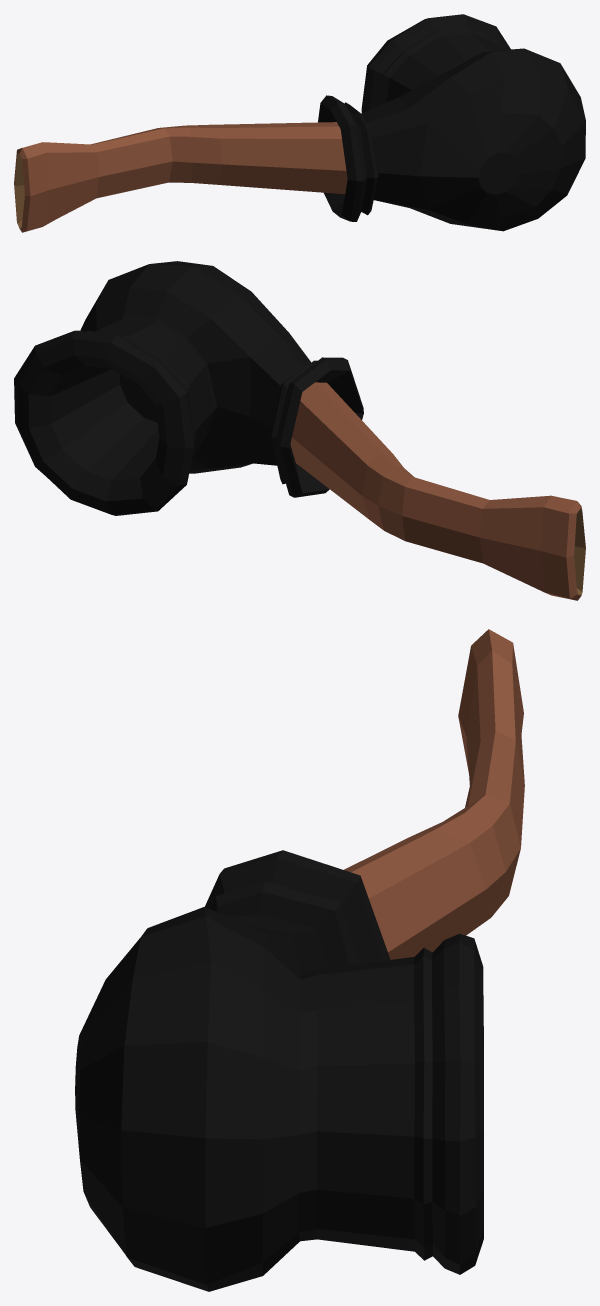
File: pipe_treasure.fbx
3 renders of one model, top to bottom at view 1: azimuth 30°, elevation 25°; view 2: azimuth 150°, elevation 25°; view 3: azimuth 270°, elevation 25°, orthographic. The views are drawn at different scales.
Visible parts, largest first — view 1: pipe; view 2: pipe; view 3: pipe.
Boxes of the visible parts, box(x1,y1,x2,y2) form: pipe: box(14, 14, 585, 232); pipe: box(14, 261, 585, 600); pipe: box(75, 629, 524, 1291).
Size of the model in its own units: 0.4517 by 0.155 by 0.1793.
